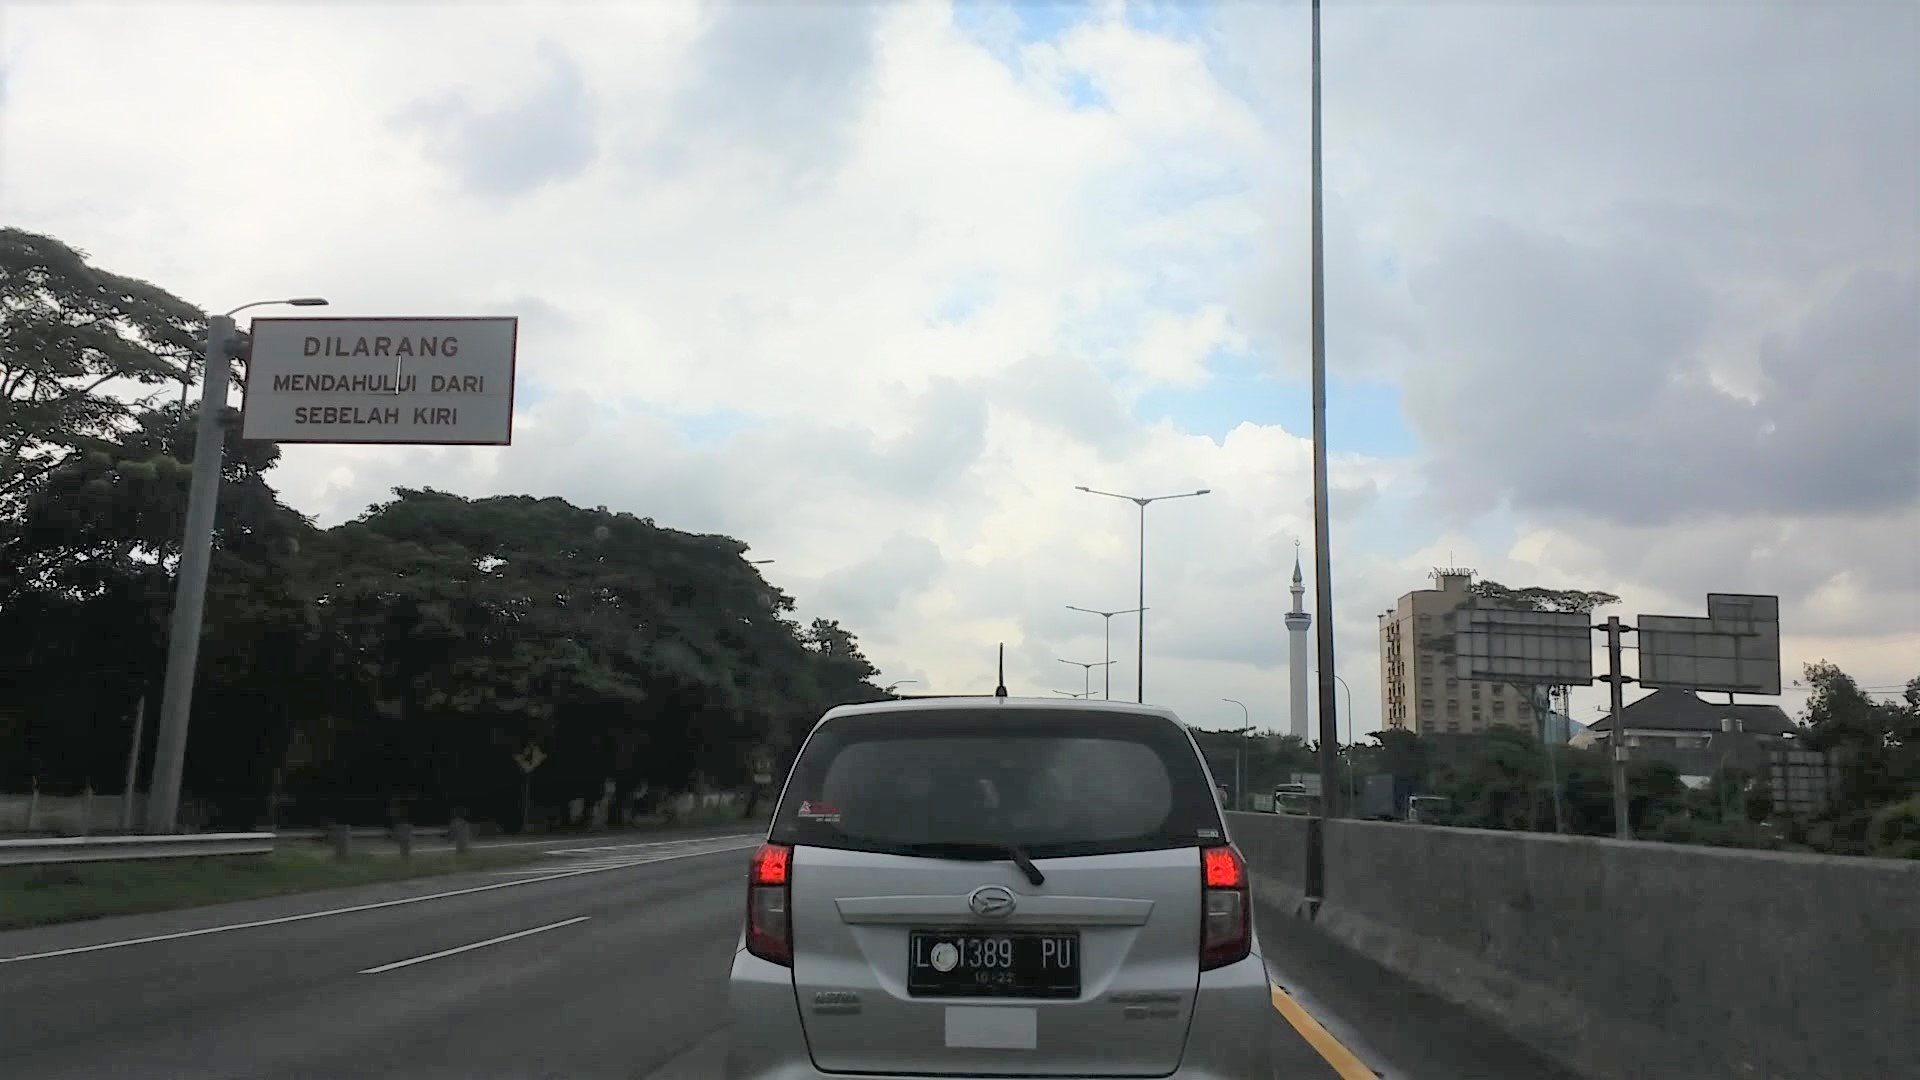plate_positive: (907, 927, 1081, 1000)
